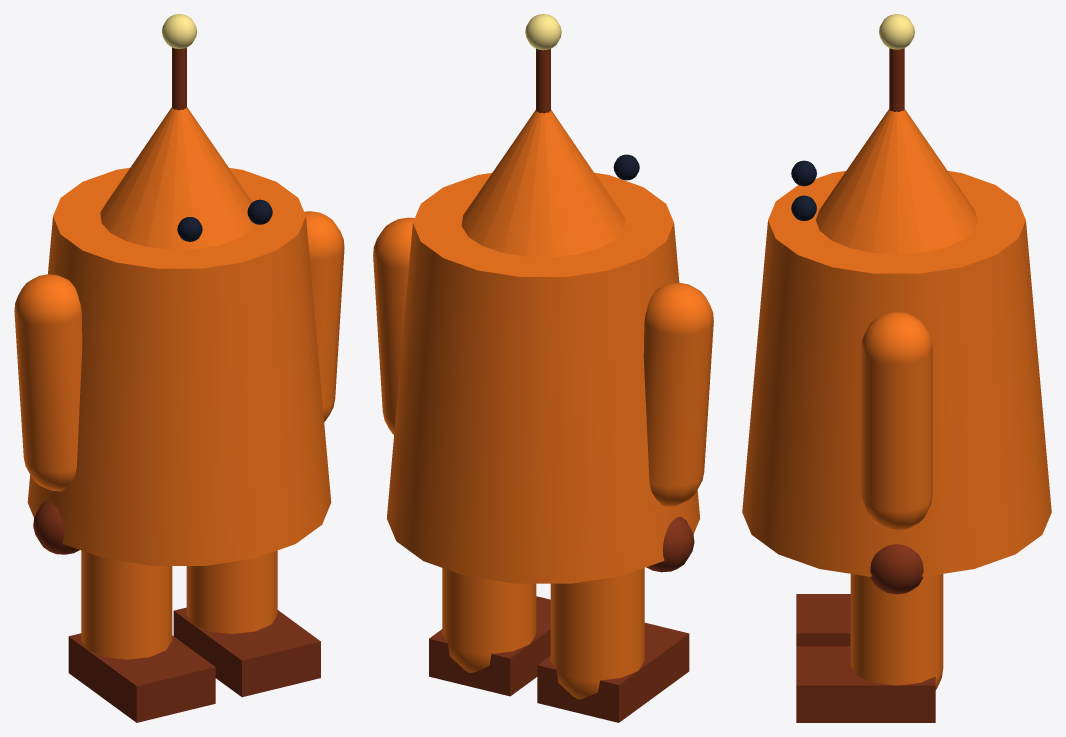
Rendered from eli.glb.
The picture shows the model from 3 angles, left to right: view 1: azimuth 30°, elevation 25°; view 2: azimuth 150°, elevation 25°; view 3: azimuth 270°, elevation 25°; orthographic projection. The views are drawn at different scales.
Visible parts, largest first — view 1: object 1, legLeft, legRight, armLeft, head, armRight, object 6, object 5; view 2: object 1, legLeft, head, armLeft, legRight, armRight, object 6, object 5, object 7; view 3: object 1, legRight, armRight, head, legLeft, object 6, object 5, object 7, object 8.
Boxes of the visible parts, x1,y1,x2,y2 form: object 1: (27, 167, 331, 565); legLeft: (68, 550, 215, 722); legRight: (173, 550, 320, 697); armLeft: (14, 274, 82, 554); head: (100, 107, 255, 249); armRight: (304, 211, 344, 421); object 6: (162, 14, 196, 48); object 5: (172, 47, 186, 110); object 1: (386, 172, 700, 583); legLeft: (537, 568, 689, 722); head: (461, 110, 625, 257); armLeft: (643, 282, 713, 572); legRight: (429, 568, 550, 696); armRight: (373, 217, 414, 434); object 6: (525, 14, 561, 50); object 5: (536, 48, 550, 113); object 7: (613, 154, 639, 180); object 1: (742, 171, 1051, 576); legRight: (796, 574, 943, 722); armRight: (861, 311, 932, 594); head: (816, 109, 977, 254); legLeft: (796, 594, 850, 646); object 6: (879, 14, 914, 49); object 5: (889, 48, 904, 111); object 7: (791, 160, 816, 186); object 8: (791, 195, 816, 220).
Bounding box in the file's own units: 1.46 × 2.86 × 1.2.
